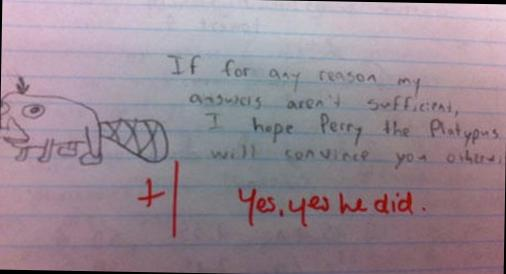text: (204, 108, 500, 150), (164, 53, 422, 99), (208, 144, 506, 174), (235, 186, 428, 232), (188, 90, 459, 119), (135, 176, 167, 210)
